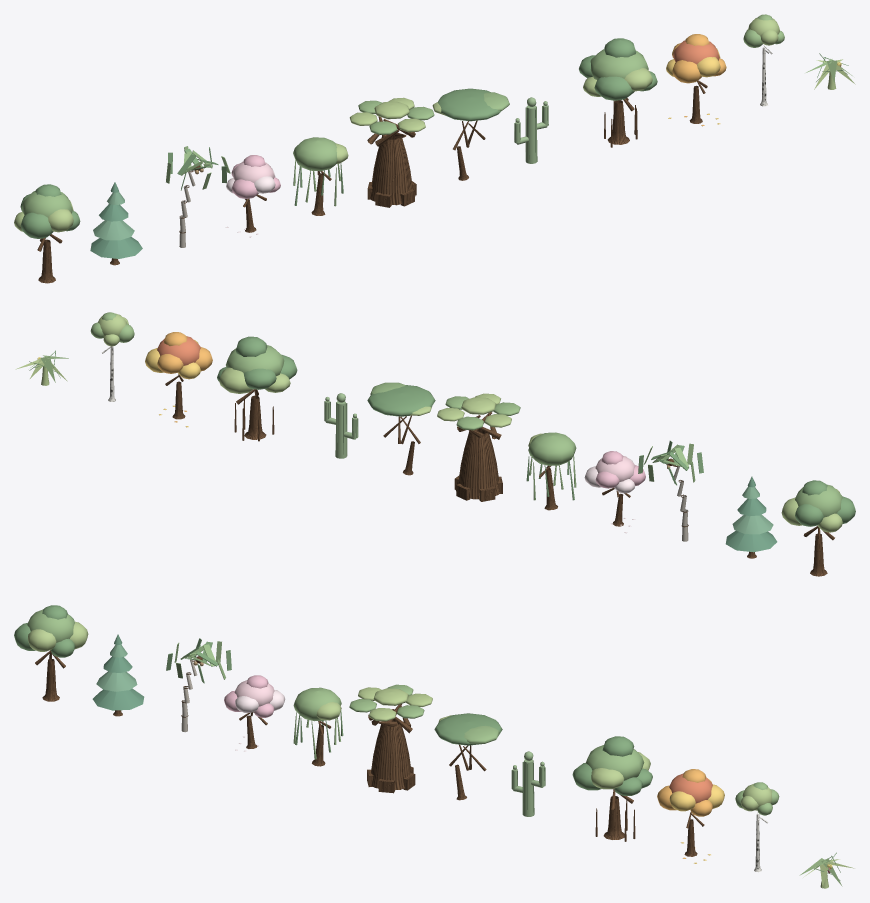
Rendered from kit-38-pohon-dunia.glb.
The picture shows the model from 3 angles, top to bottom: view 1: azimuth 30°, elevation 25°; view 2: azimuth 150°, elevation 25°; view 3: azimuth 330°, elevation 25°; orthographic projection.
Visible parts, largest first — view 1: Pohon_Baobab_Afrika, Pohon_Beringin_India, Pohon_Oak_Eropa, Pohon_MapleMerah, Pohon_Akasia_Savana, Pohon_Willow_Cina, Pohon_Pinus, Pohon_Sakura_Jepang, Pohon_PalemKelapa, Pohon_Birch, Pohon_Saguaro_Amerika, Pohon_Pisang_Tropis; view 2: Pohon_Baobab_Afrika, Pohon_Beringin_India, Pohon_Oak_Eropa, Pohon_MapleMerah, Pohon_Akasia_Savana, Pohon_Willow_Cina, Pohon_Pinus, Pohon_Sakura_Jepang, Pohon_PalemKelapa, Pohon_Birch, Pohon_Saguaro_Amerika, Pohon_Pisang_Tropis; view 3: Pohon_Baobab_Afrika, Pohon_Beringin_India, Pohon_Oak_Eropa, Pohon_MapleMerah, Pohon_Akasia_Savana, Pohon_Willow_Cina, Pohon_Pinus, Pohon_Sakura_Jepang, Pohon_PalemKelapa, Pohon_Birch, Pohon_Saguaro_Amerika, Pohon_Pisang_Tropis.
Boxes of the visible parts, <box> form: Pohon_Baobab_Afrika: <box>349,97,434,207</box>; Pohon_Beringin_India: <box>579,38,657,147</box>; Pohon_Oak_Eropa: <box>14,184,80,283</box>; Pohon_MapleMerah: <box>666,34,726,126</box>; Pohon_Akasia_Savana: <box>432,88,509,180</box>; Pohon_Willow_Cina: <box>293,137,348,215</box>; Pohon_Pinus: <box>90,182,142,265</box>; Pohon_Sakura_Jepang: <box>226,155,280,237</box>; Pohon_PalemKelapa: <box>166,146,230,247</box>; Pohon_Birch: <box>743,14,784,106</box>; Pohon_Saguaro_Amerika: <box>514,97,548,163</box>; Pohon_Pisang_Tropis: <box>806,53,855,89</box>; Pohon_Baobab_Afrika: <box>437,393,520,501</box>; Pohon_Beringin_India: <box>217,336,297,441</box>; Pohon_Oak_Eropa: <box>781,480,855,576</box>; Pohon_MapleMerah: <box>145,332,212,427</box>; Pohon_Akasia_Savana: <box>367,382,435,475</box>; Pohon_Willow_Cina: <box>526,432,576,510</box>; Pohon_Pinus: <box>725,476,777,558</box>; Pohon_Sakura_Jepang: <box>584,451,645,533</box>; Pohon_PalemKelapa: <box>638,440,703,541</box>; Pohon_Birch: <box>90,312,134,401</box>; Pohon_Saguaro_Amerika: <box>324,393,358,458</box>; Pohon_Pisang_Tropis: <box>15,350,68,385</box>; Pohon_Baobab_Afrika: <box>349,684,432,793</box>; Pohon_Beringin_India: <box>572,736,652,841</box>; Pohon_Oak_Eropa: <box>14,605,88,701</box>; Pohon_MapleMerah: <box>657,769,724,863</box>; Pohon_Akasia_Savana: <box>434,713,502,800</box>; Pohon_Willow_Cina: <box>293,687,343,766</box>; Pohon_Pinus: <box>92,634,144,716</box>; Pohon_Sakura_Jepang: <box>224,675,285,751</box>; Pohon_PalemKelapa: <box>166,638,231,732</box>; Pohon_Birch: <box>735,782,779,872</box>; Pohon_Saguaro_Amerika: <box>511,751,545,816</box>; Pohon_Pisang_Tropis: <box>799,852,854,888</box>.
Bounding box in the file's own units: 43.12 × 4.96 × 3.88.
Materials: 22 (2 with a texture image).
